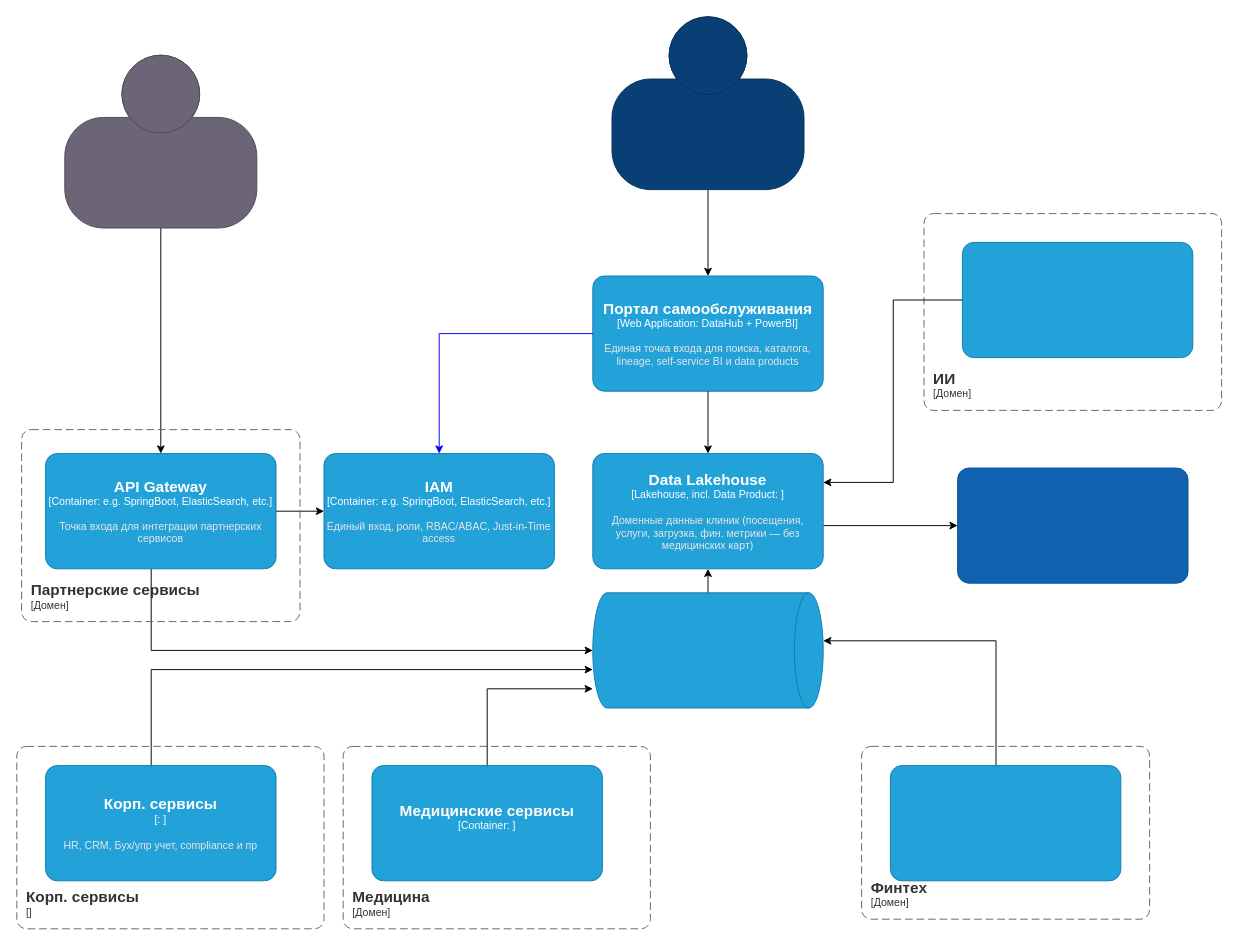
This 1238x946 diagram has some shape labels left out. The centre of each missing label's shape, as x and y in pixels:
"ESB [Container: Apache Camel] передача событий между доменами и системами" goes at (707,650).
"ИИ-сервисы [Container: ]" goes at (1077,299).
"Партнеры [Person]" goes at (160,141).
"Сервис анонимзиации [Software System] Обезличивание данных" goes at (1072,525).
"Сотрудник [Person] Потребитель данных" goes at (707,103).
"Финтех-сервисы [Container: %c4Technology%]" goes at (1005,823).
